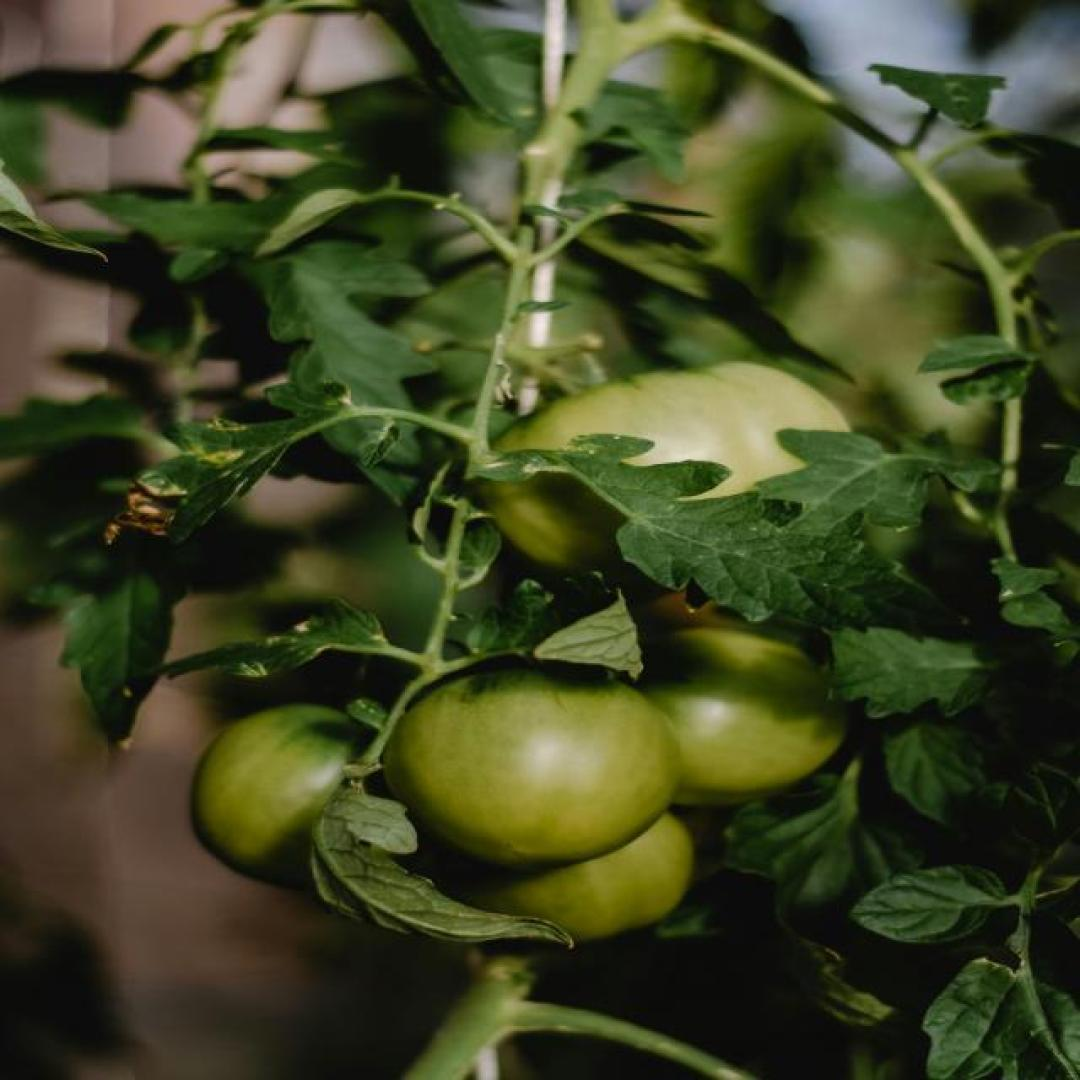mentah: (468, 362, 860, 586), (381, 672, 685, 869), (187, 704, 434, 896)
